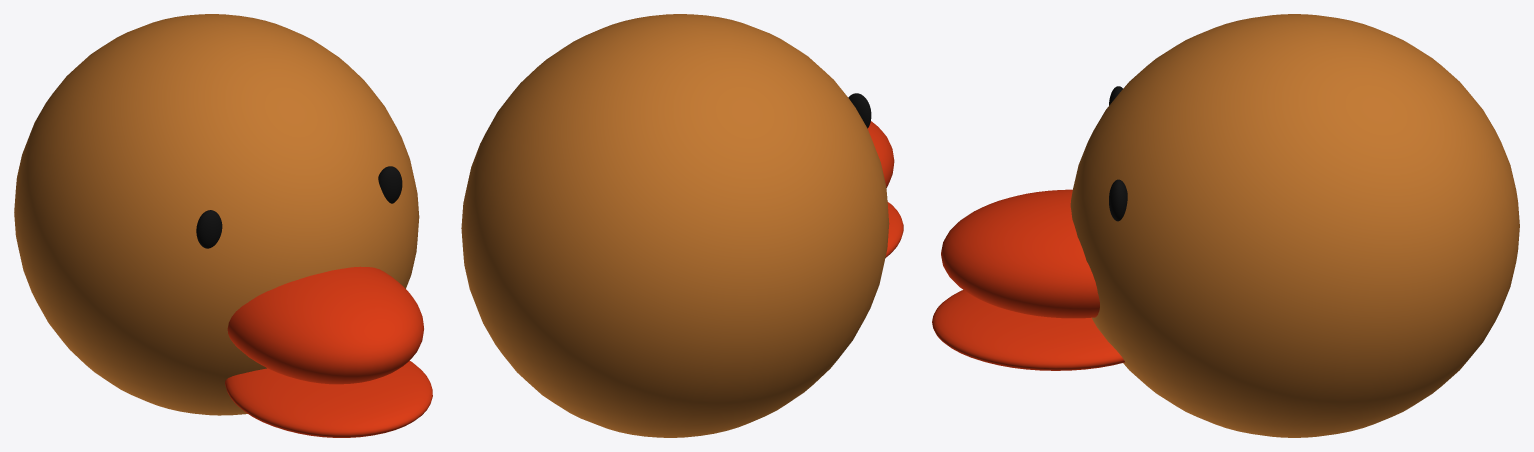
Rendered from head.glb.
3 renders of one model, left to right at view 1: azimuth 30°, elevation 25°; view 2: azimuth 150°, elevation 25°; view 3: azimuth 270°, elevation 25°, orthographic. The views are drawn at different scales.
Visible parts, largest first — view 1: head; view 2: head; view 3: head.
Boxes of the visible parts, x1,y1,x2,y2 form: head: [14, 14, 432, 437]; head: [461, 14, 903, 437]; head: [932, 14, 1519, 437].
Size of the model in its own units: 0.48 by 0.48 by 0.665.
Materials: 3 (3 with a texture image).
